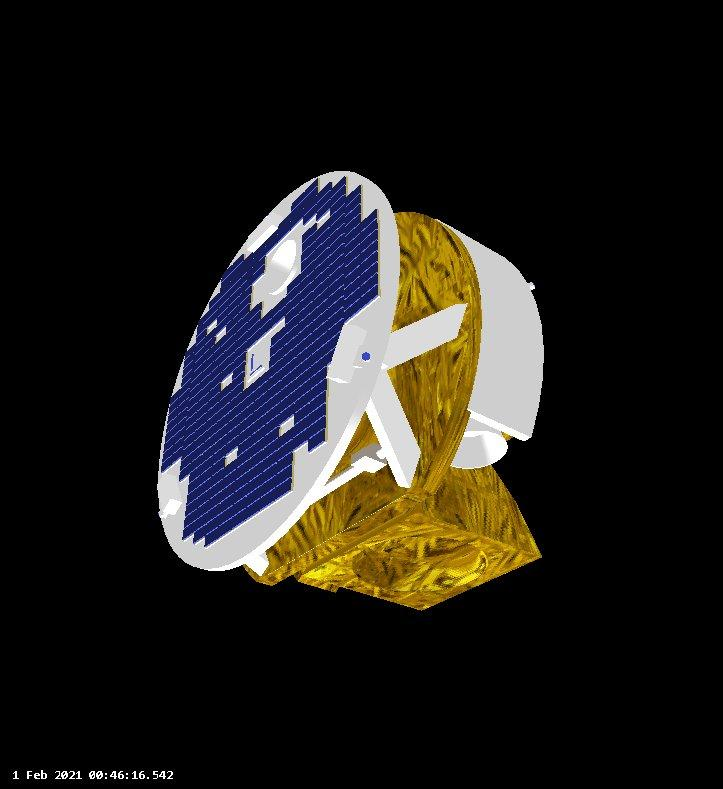body: (242, 209, 546, 586)
solar: (162, 178, 382, 545)
thruster: (300, 459, 544, 612), (449, 417, 509, 470), (527, 282, 536, 290)
